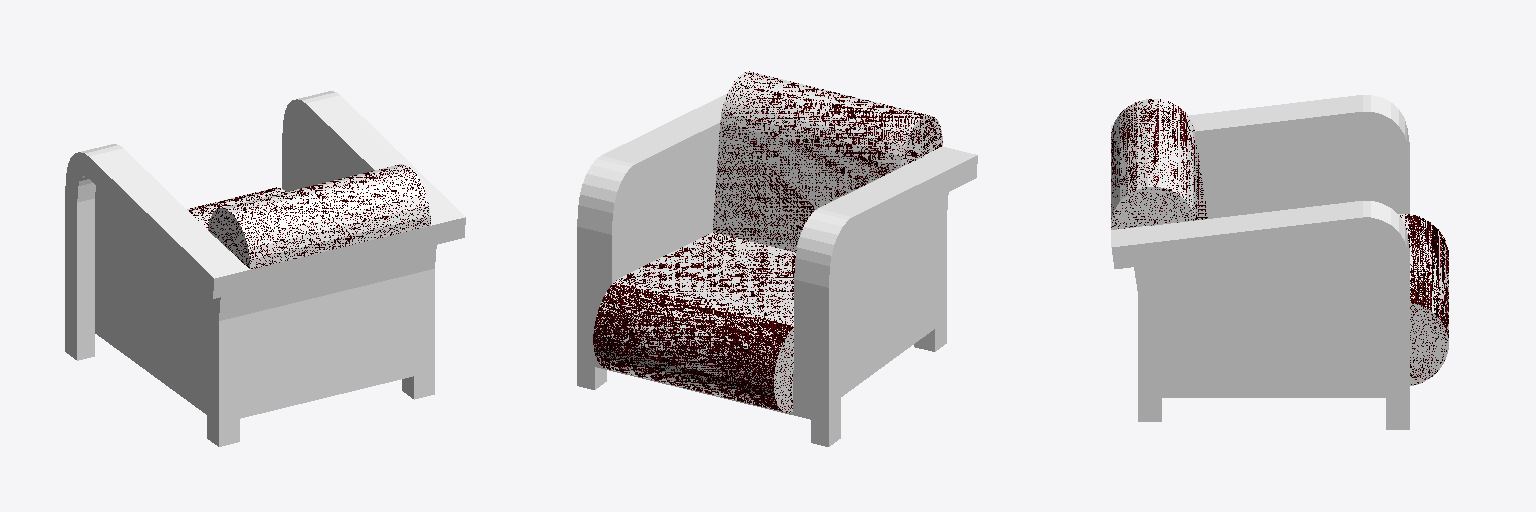
3 renders of one model, left to right at view 1: azimuth 30°, elevation 25°; view 2: azimuth 150°, elevation 25°; view 3: azimuth 270°, elevation 25°, orthographic.
Parts seen in each view (by area): view 1: mesh1_mesh1-geometry; view 2: mesh1_mesh1-geometry; view 3: mesh1_mesh1-geometry.
Part boxes in pixels (x1,y1,x2,y2): mesh1_mesh1-geometry: (65, 91, 465, 446); mesh1_mesh1-geometry: (577, 71, 977, 446); mesh1_mesh1-geometry: (1111, 95, 1448, 429).
Size of the model in its own units: 0.5695 by 0.4886 by 0.661.
4 materials, 1 textured.